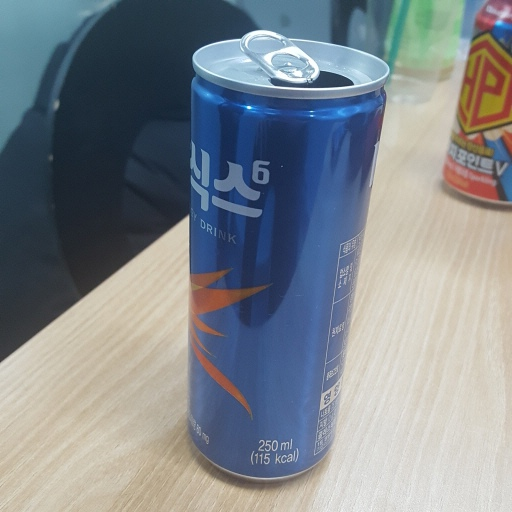Metal_0: (184, 29, 392, 488)
